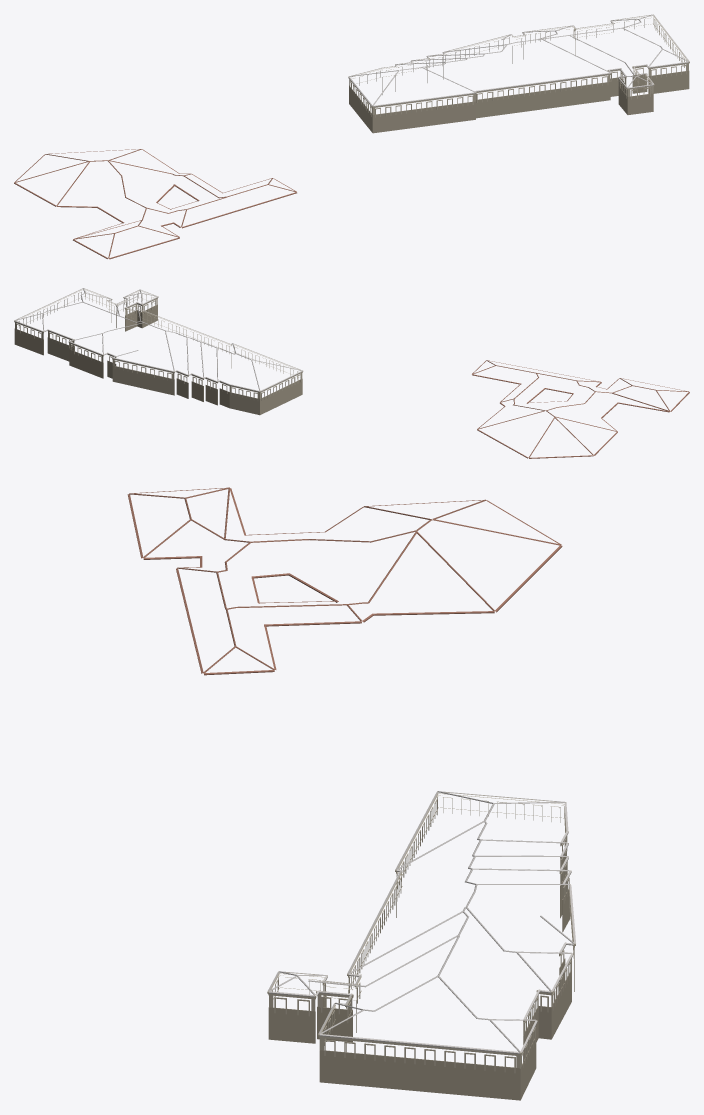
The picture shows the model from 3 angles, top to bottom: view 1: azimuth 30°, elevation 25°; view 2: azimuth 150°, elevation 25°; view 3: azimuth 270°, elevation 25°; orthographic projection. The views are drawn at different scales.
Visible parts, largest first — view 1: detail; view 2: detail; view 3: detail.
Part boxes in pixels (x1=…): detail: x1=14, y1=14, x2=689, y2=259; detail: x1=14, y1=288, x2=689, y2=458; detail: x1=127, y1=487, x2=575, y2=1100.
Bounding box in the file's own units: 208 × 13.8 × 69.06.
